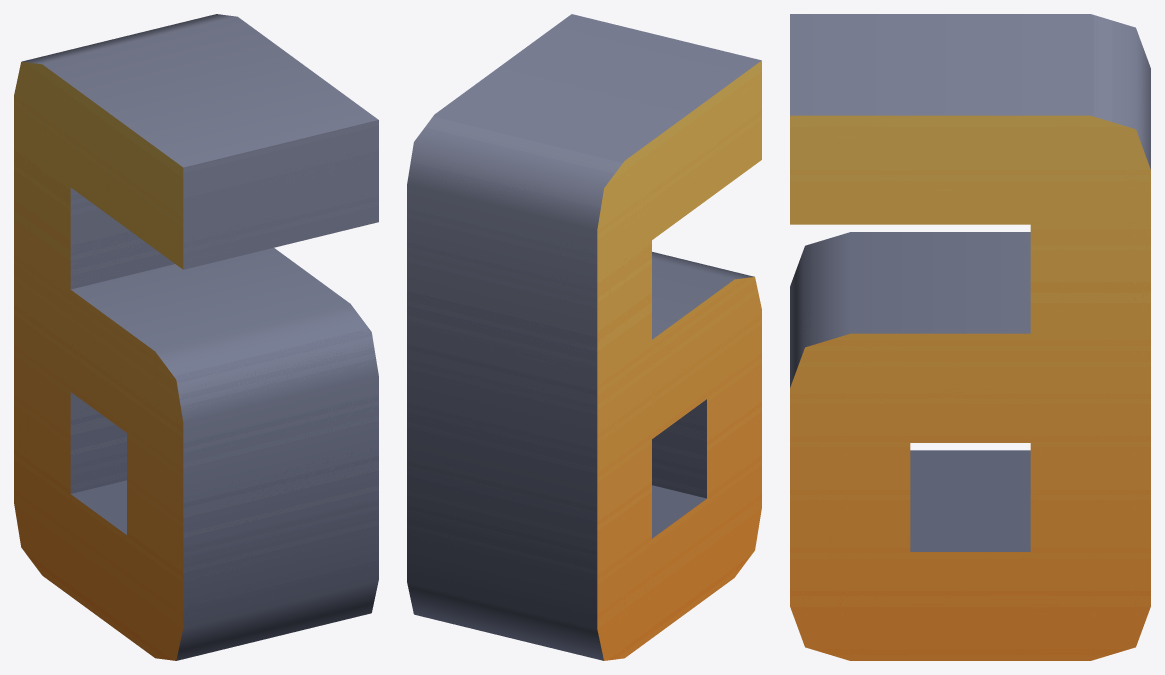
The model's file is number-6.glb.
The picture shows the model from 3 angles, left to right: view 1: azimuth 30°, elevation 25°; view 2: azimuth 150°, elevation 25°; view 3: azimuth 270°, elevation 25°; orthographic projection. The views are drawn at different scales.
Parts seen in each view (by area): view 1: number-6; view 2: number-6; view 3: number-6.
Part boxes in pixels (x1=…): number-6: x1=14, y1=14, x2=378, y2=660; number-6: x1=407, y1=14, x2=761, y2=660; number-6: x1=790, y1=14, x2=1150, y2=660.
Bounding box in the file's own units: 0.2 × 0.5 × 0.3.
1 material, 1 textured.
